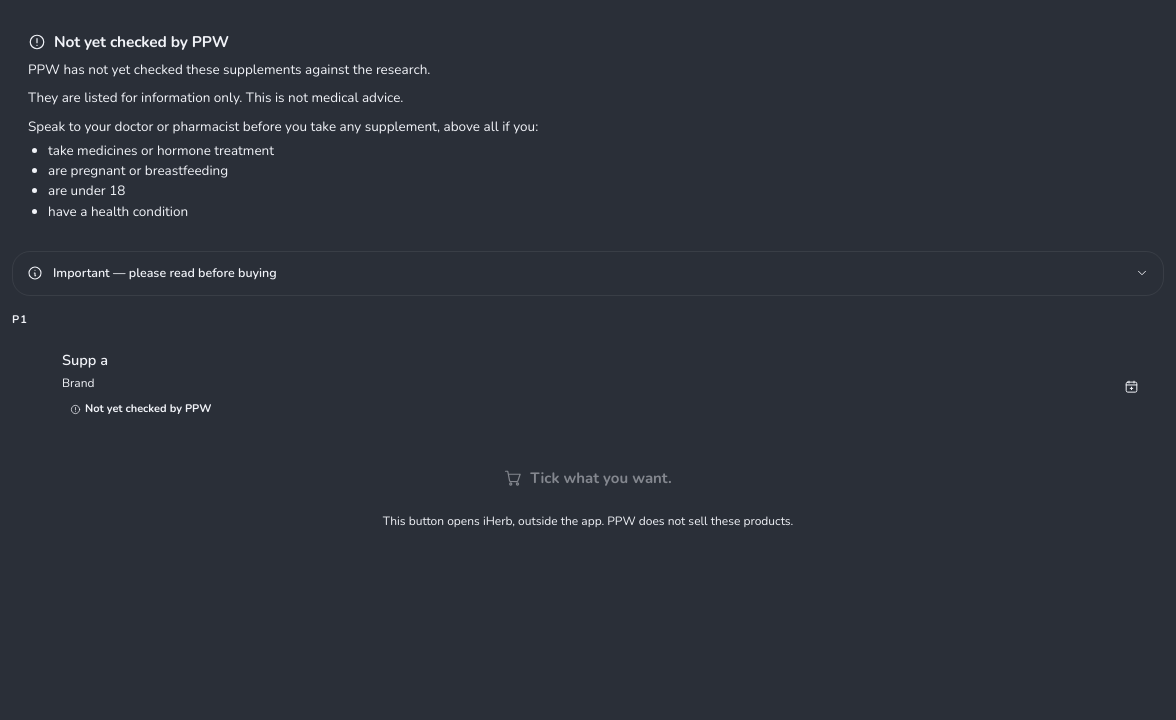
it: 2b · the label and the sentence follow the data › a link with no referral code says nothing about what PPW may get, anywhere on the shelf
Click the button "Important — please read before buying" at (165, 272), box left=13, top=252, right=1163, bottom=295
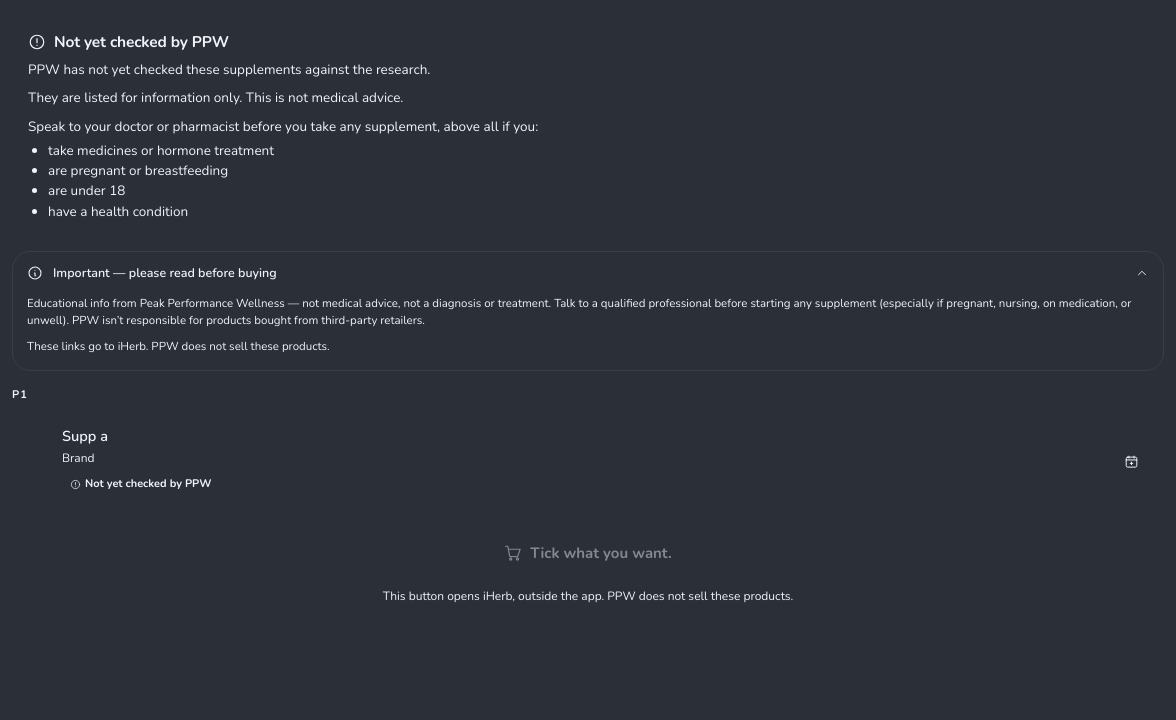
Check: the text "These links go to iHerb. PPW does not sell these products." is shown, box left=27, top=338, right=330, bottom=354
